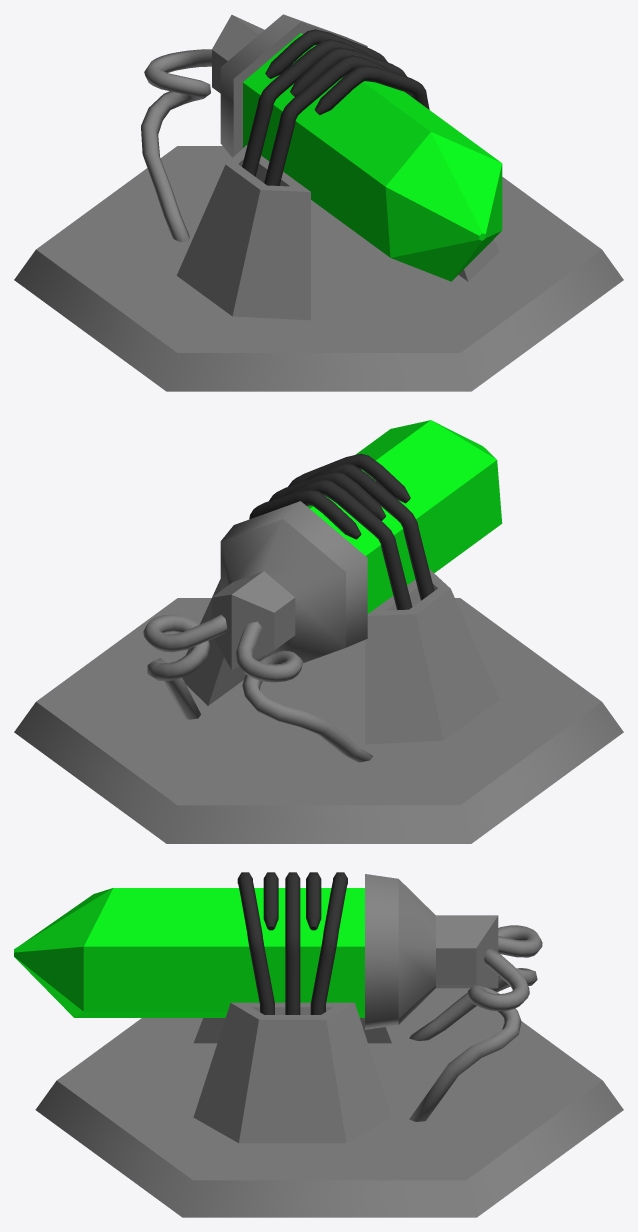
Rendered from Emisor_Laser.fbx.
The picture shows the model from 3 angles, top to bottom: view 1: azimuth 30°, elevation 25°; view 2: azimuth 150°, elevation 25°; view 3: azimuth 270°, elevation 25°; orthographic projection. The views are drawn at different scales.
Visible parts, largest first — view 1: Cylinder002, Cylinder001, Cylinder004; view 2: Cylinder002, Cylinder001, Cylinder004; view 3: Cylinder002, Cylinder001, Cylinder004.
Boxes of the visible parts, x1,y1,x2,y2 form: Cylinder002: (14,14,623,391); Cylinder001: (243,33,502,281); Cylinder004: (242,29,429,185); Cylinder002: (14,501,623,843); Cylinder001: (307,420,502,613); Cylinder004: (249,453,434,609); Cylinder002: (35,874,623,1217); Cylinder001: (14,888,364,1017); Cylinder004: (237,872,347,1014).
Bounding box in the file's own units: 75.95 × 38.81 × 90.88.
